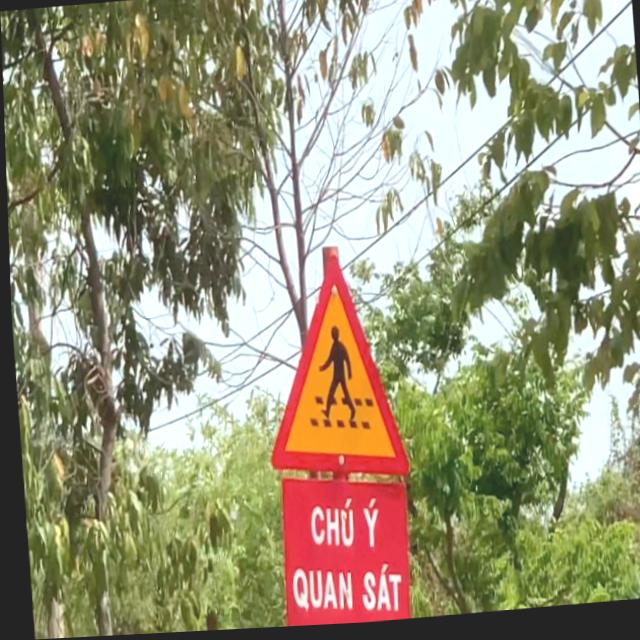Nguoi di bo cat ngang: (246, 234, 412, 492)
